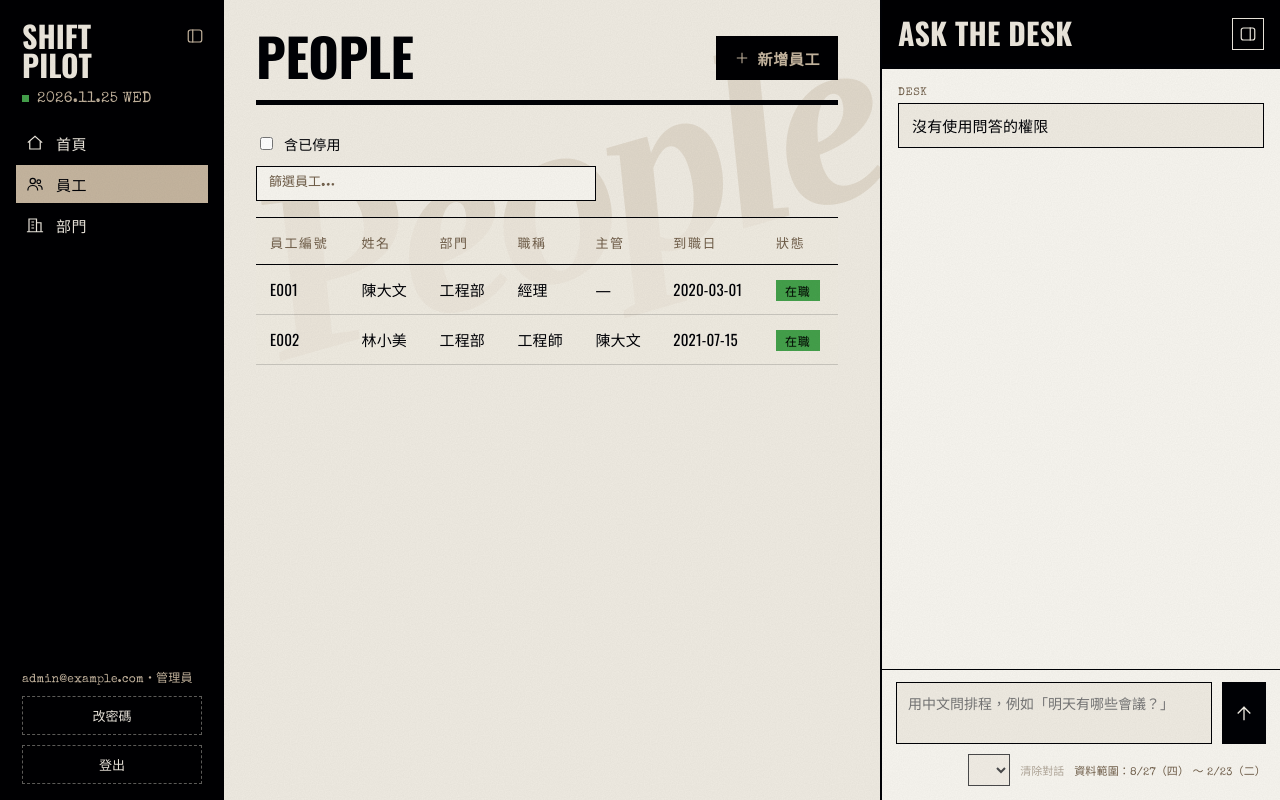
Scenario: testDeactivateConfirmationDoesNotCarryToAnotherEmployee
Step 1. Click the text "林小美" → (386, 340), box 348,315 -> 426,365
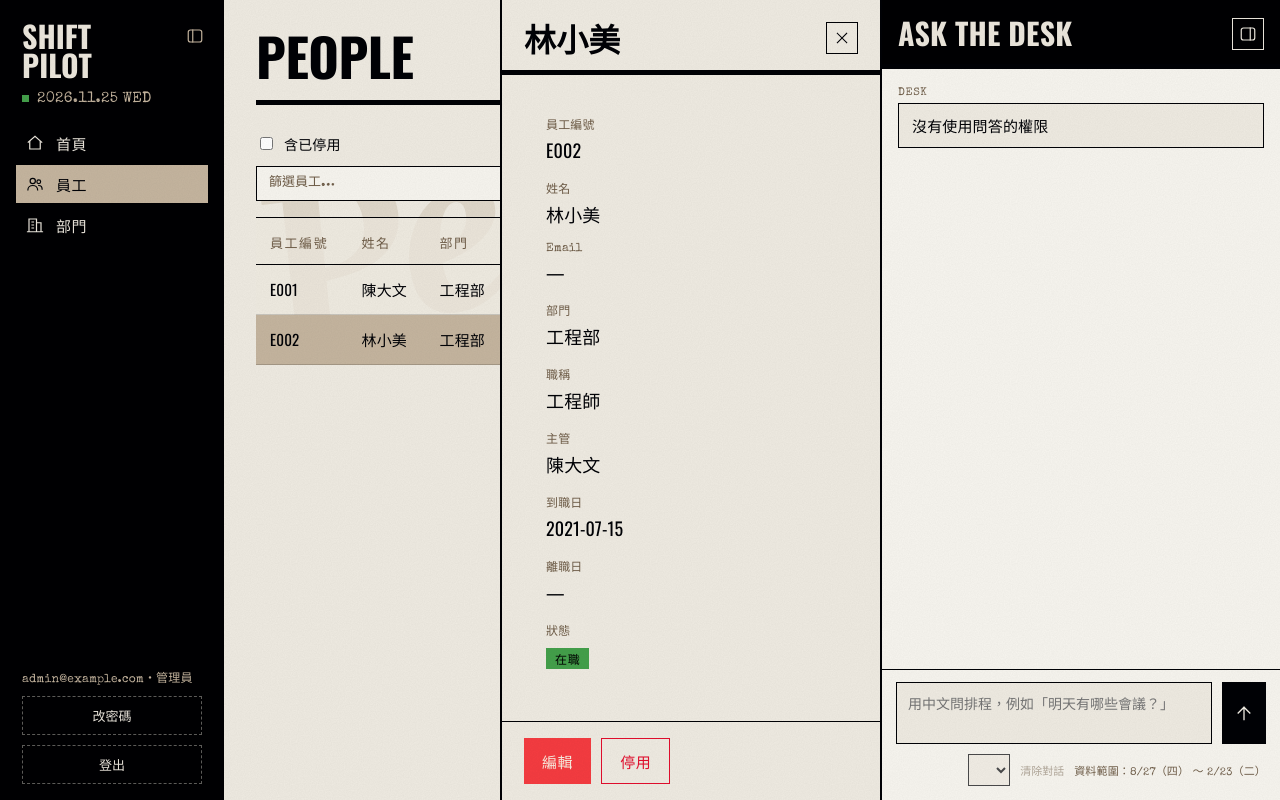
Step 2. Click the button "停用" → (636, 761), box 601,738 -> 670,784
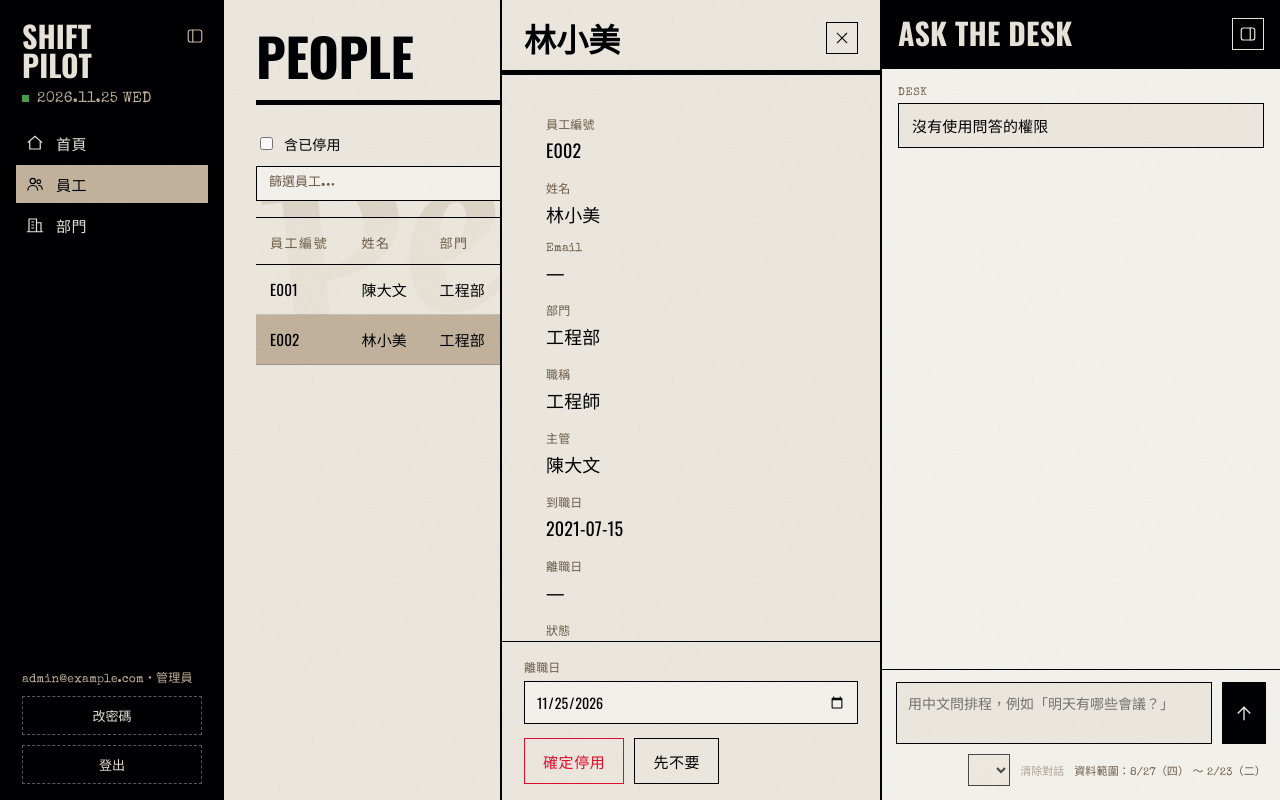
Check: the button "確定停用" is shown, box 524,738 -> 624,784
Step 3. Click the text "陳大文" → (386, 290), box 348,265 -> 426,315
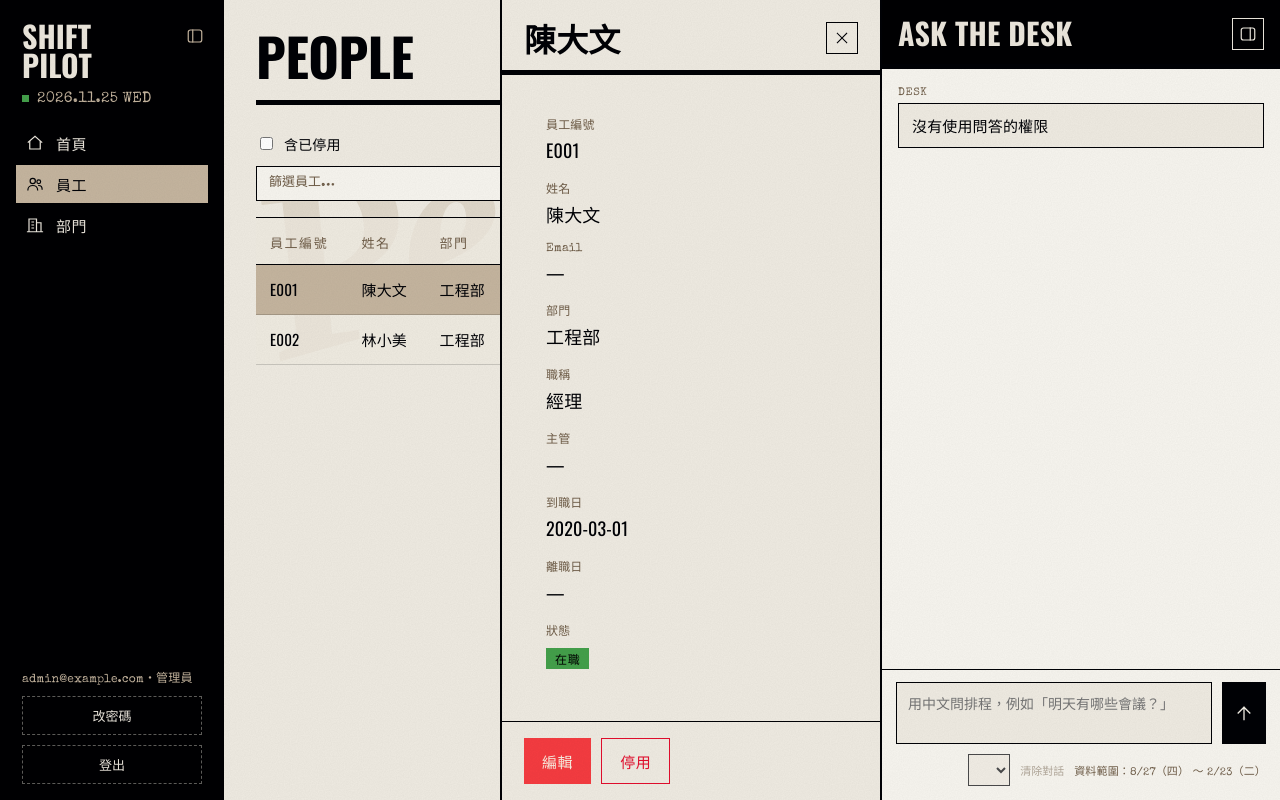
Check: the button "停用" is shown, box 601,738 -> 670,784
Check: the button "確定停用" is gone
